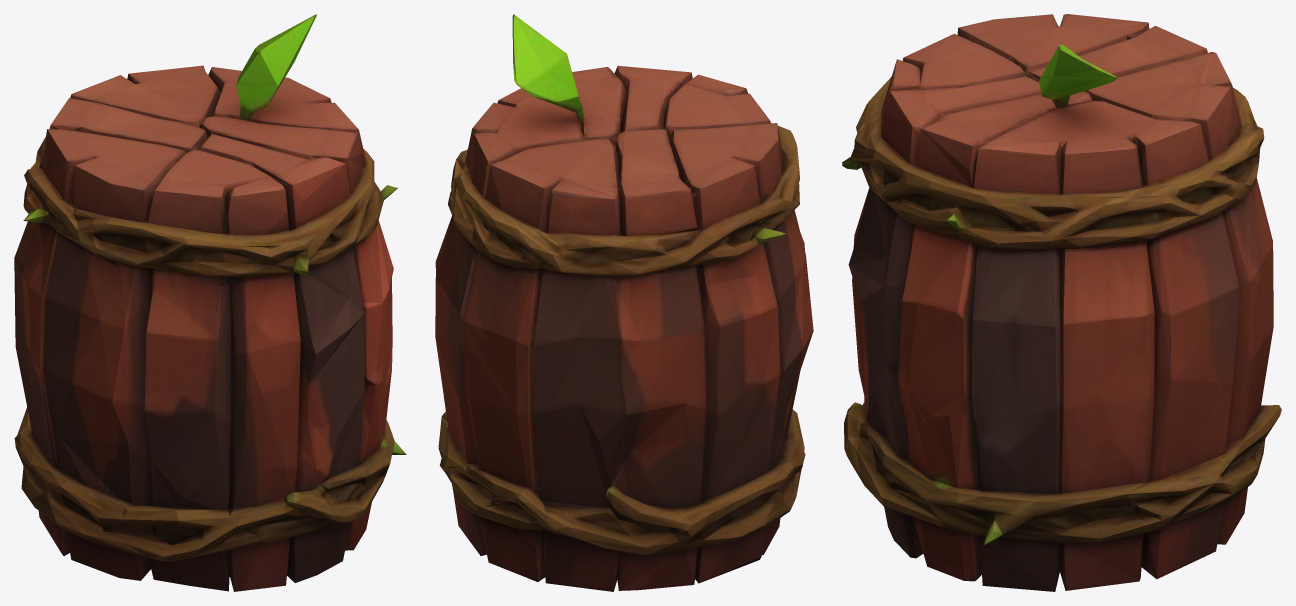
File: racines_tonneau.glb
The picture shows the model from 3 angles, left to right: view 1: azimuth 30°, elevation 25°; view 2: azimuth 150°, elevation 25°; view 3: azimuth 270°, elevation 25°; orthographic projection. The views are drawn at different scales.
Visible parts, largest first — view 1: geometry_0; view 2: geometry_0; view 3: geometry_0.
Part boxes in pixels (<box>): geometry_0: <box>14,14,406,591</box>; geometry_0: <box>435,14,813,591</box>; geometry_0: <box>842,14,1281,591</box>.
Bounding box in the file's own units: 0.7275 × 0.9981 × 0.7453.
1 material, 1 textured.
